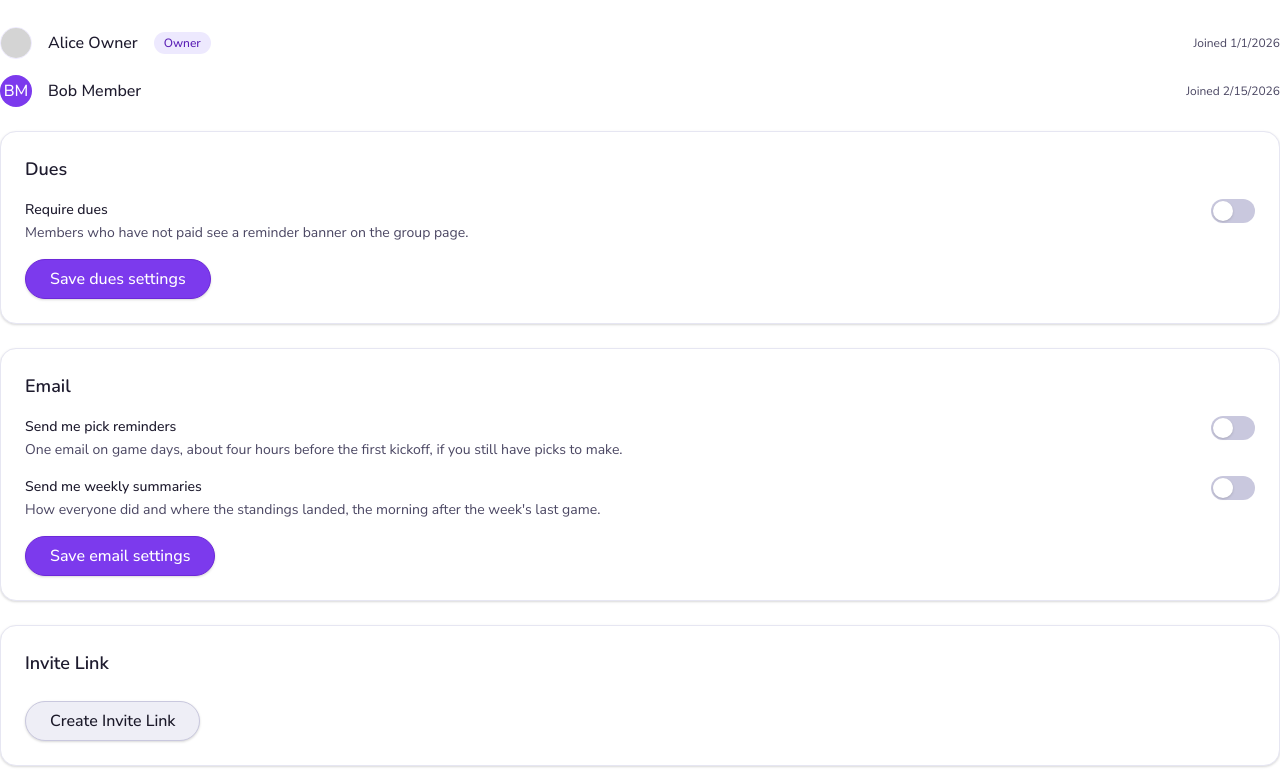
Scenario: SettingsTab invite link › surfaces an inline error when createLinkInvite rejects
What coordinates should you click on to do the following:
click the button "Create Invite Link"
I would click on:
 (113, 721)
Its box is [25,701,200,741].
(page scrolled)
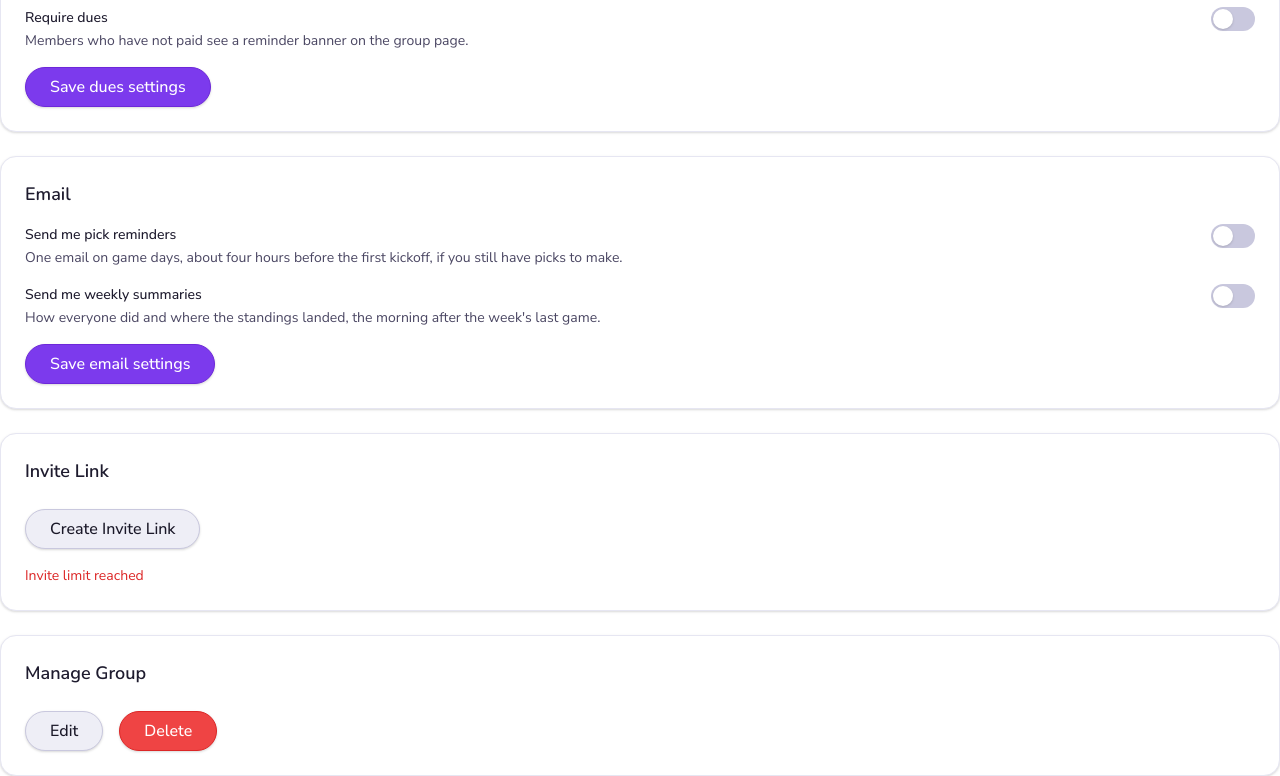
Check: the text "Invite limit reached" is shown, box [25,566,144,585]
